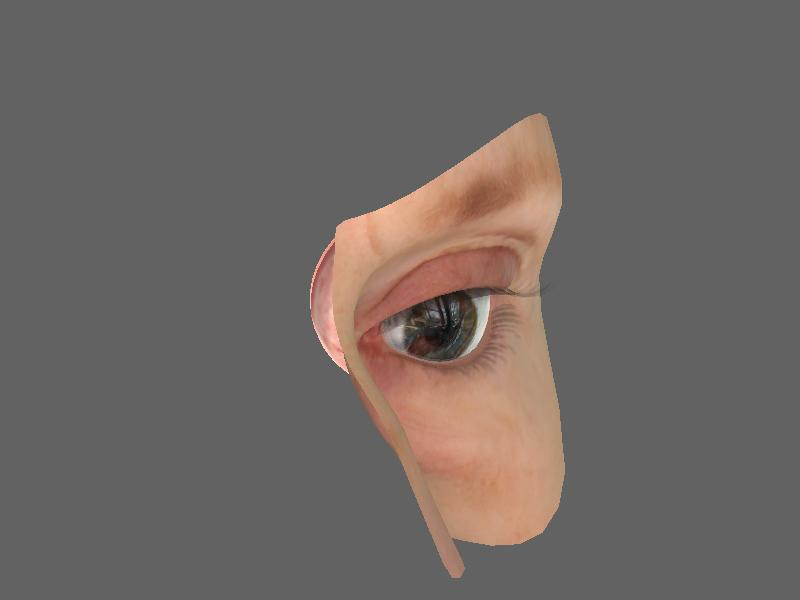iris: (403, 296, 489, 363)
